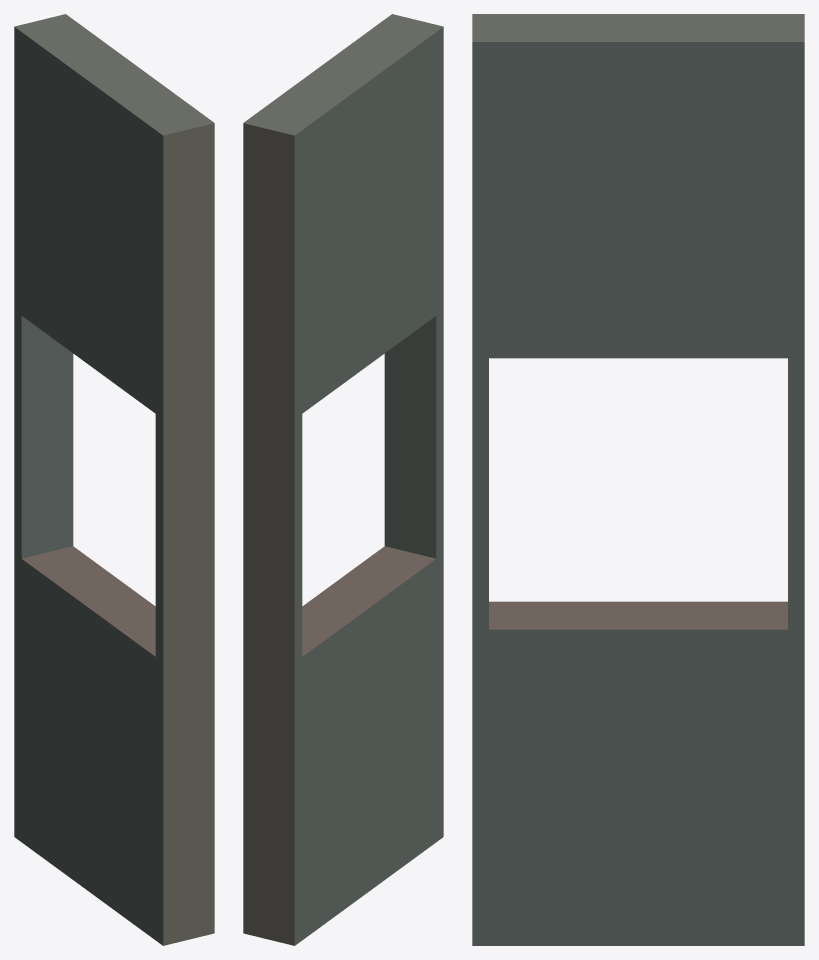
Rendered from wall_thin_3m_window.fbx.
3 views of the same model, side by side, from view 1: azimuth 30°, elevation 25°; view 2: azimuth 150°, elevation 25°; view 3: azimuth 270°, elevation 25° (orthographic). The views are drawn at different scales.
Visible parts, largest first — view 1: Cube; view 2: Cube; view 3: Cube.
Part boxes in pixels (x1,y1,x2,y2): Cube: [14, 14, 214, 945]; Cube: [243, 14, 443, 945]; Cube: [472, 14, 804, 945].
Size of the model in its own units: 20 by 300 by 100.
